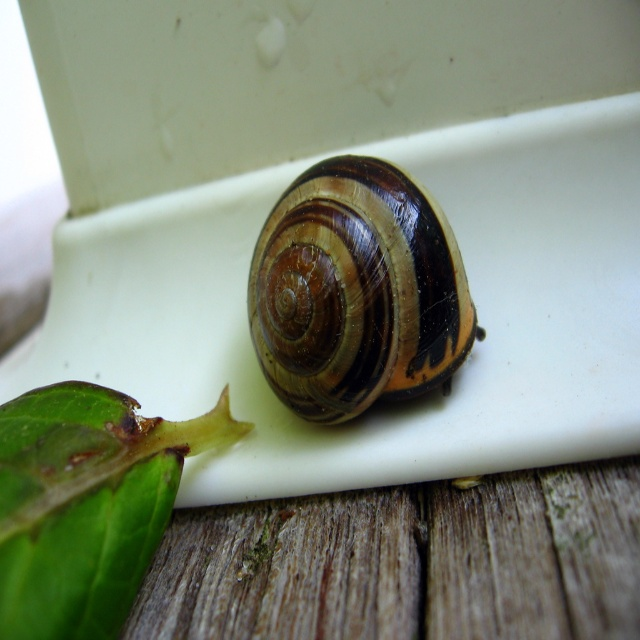Snail: (242, 148, 485, 432)
